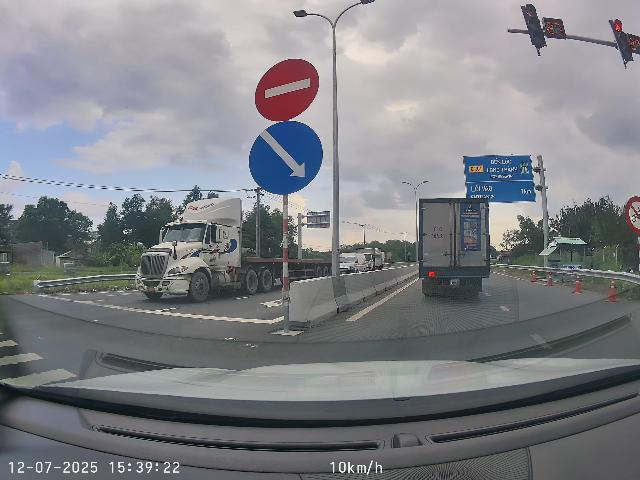102-cam-di-nguoc-chieu: (254, 57, 319, 120)
302a-huong-phai-di-vong-chuong-ngai-vat-1: (249, 121, 323, 195)
437-bat-dau-duong-cao-toc: (520, 162, 529, 174)
